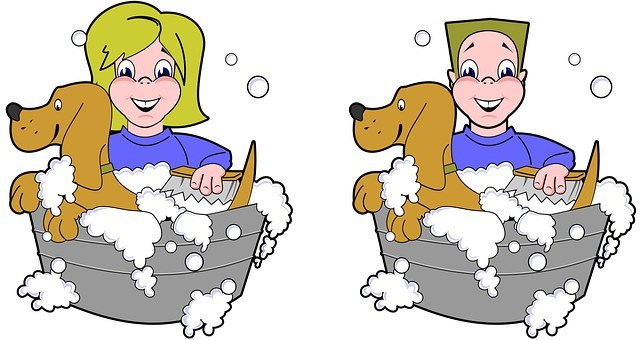dog: (333, 78, 605, 241), (8, 82, 267, 233)
person: (74, 3, 232, 201), (435, 11, 577, 195)
